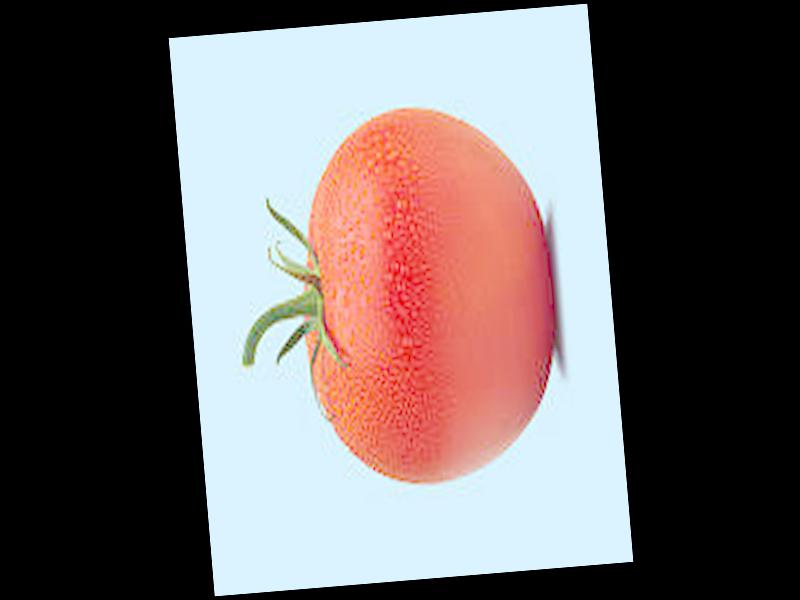Tomato: (289, 97, 564, 491)
